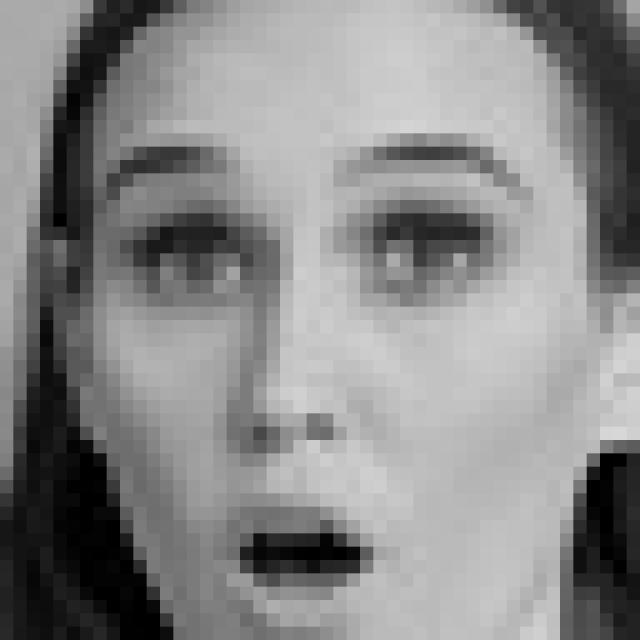surprise: (108, 133, 550, 629)
